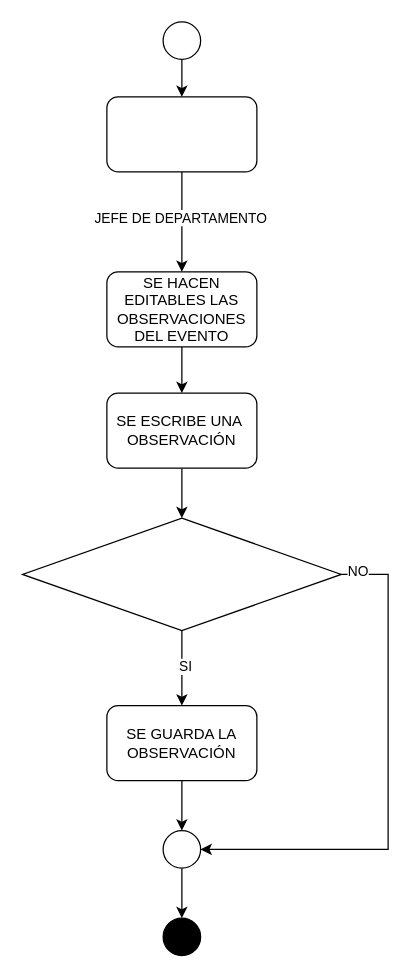
This 420x978 diagram has some shape labels left out. The shapes that lost their labels are listed below. From the top down, each one's centre as x and y in pixels, then its label:
the point at 181,134: SURGE UN CAMBIO O PROBLEMA EN EL EVENTO
the point at 181,574: SE QUIERE GUARDAR LA OBSERVACIÓN
